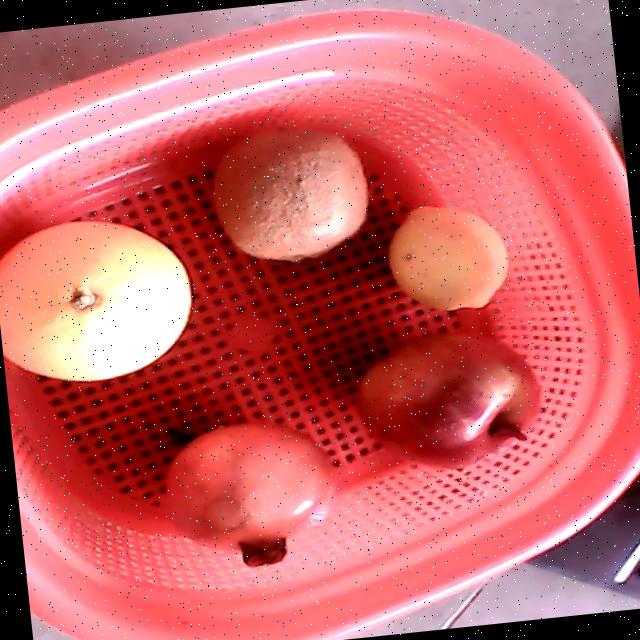apple: (353, 334, 541, 470)
kiwi: (210, 126, 366, 263)
lemon: (386, 205, 507, 310)
orange: (0, 220, 189, 381)
pomegranate: (162, 424, 334, 568)
